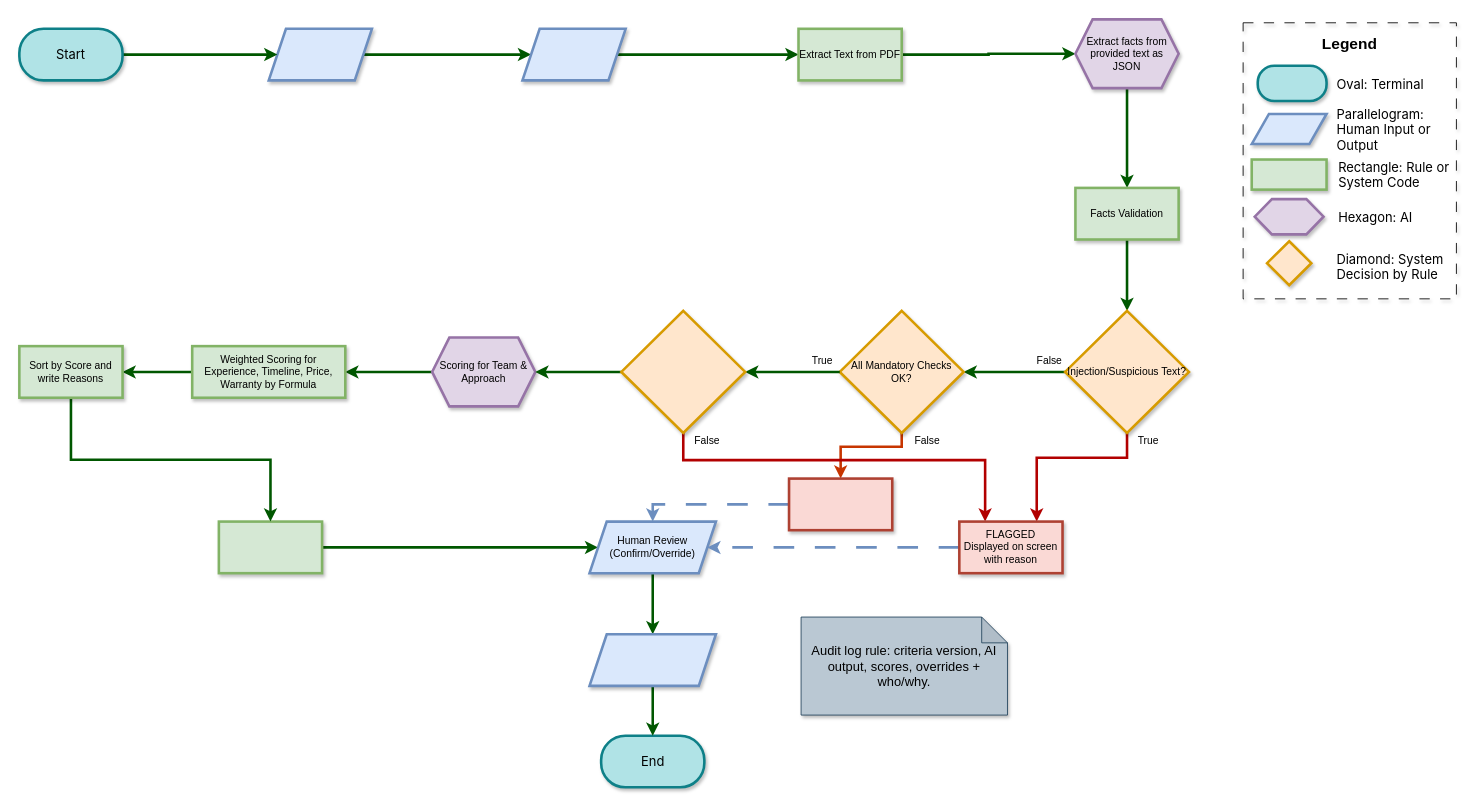
Image size: 1477x809. Some labels were removed from this diagram. The shapes that lost their labels are listed below. From the top down, each one's centre as x and y in pixels, then its label:
At (x=321, y=55): "Admin defines Criteria".
At (x=574, y=55): "Reviewer uploads PDF File and sets Category".
At (x=683, y=373): "Key Data OK?".
At (x=841, y=505): "INELIGIBLE Displayed on screen with reason".
At (x=271, y=548): "Displaying the output".
At (x=653, y=661): "Final Decision".
